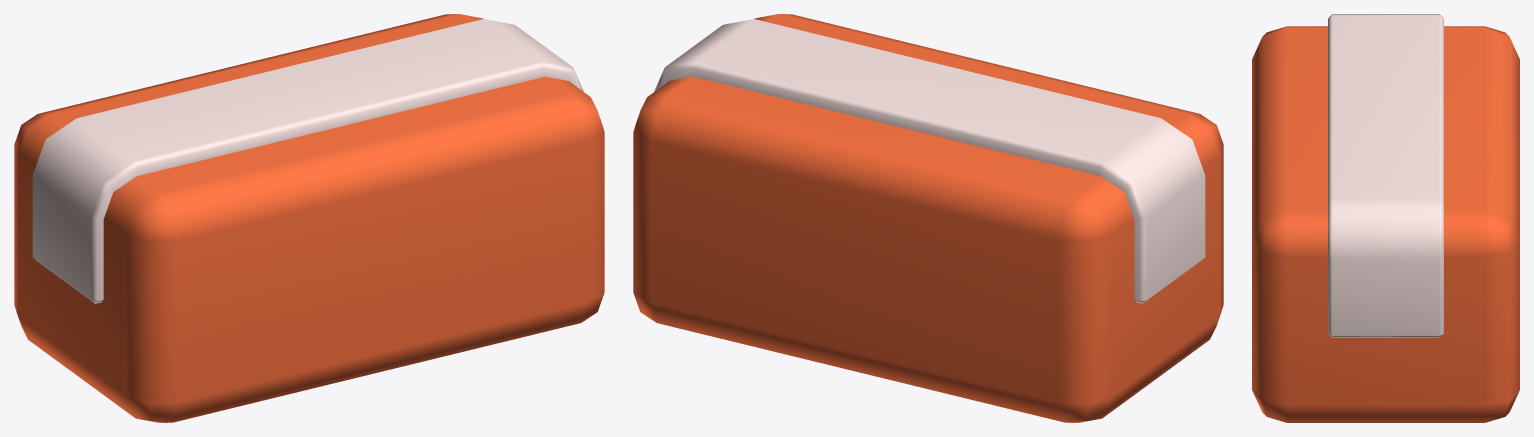
File: Town_7_Package_1.glb
The picture shows the model from 3 angles, left to right: view 1: azimuth 30°, elevation 25°; view 2: azimuth 150°, elevation 25°; view 3: azimuth 270°, elevation 25°; orthographic projection. The views are drawn at different scales.
Visible parts, largest first — view 1: Town_7_Package_1; view 2: Town_7_Package_1; view 3: Town_7_Package_1.
Part boxes in pixels (x1,y1,x2,y2): Town_7_Package_1: [14, 14, 604, 422]; Town_7_Package_1: [633, 14, 1223, 422]; Town_7_Package_1: [1252, 14, 1519, 422].
Size of the model in its own units: 0.2465 by 0.116 by 0.1259.
1 material, 1 textured.
